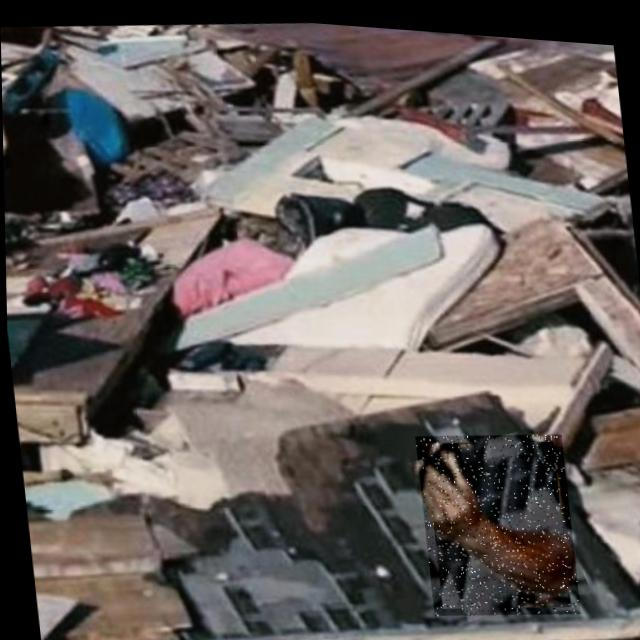Person in Rubble: (413, 417, 578, 617)
